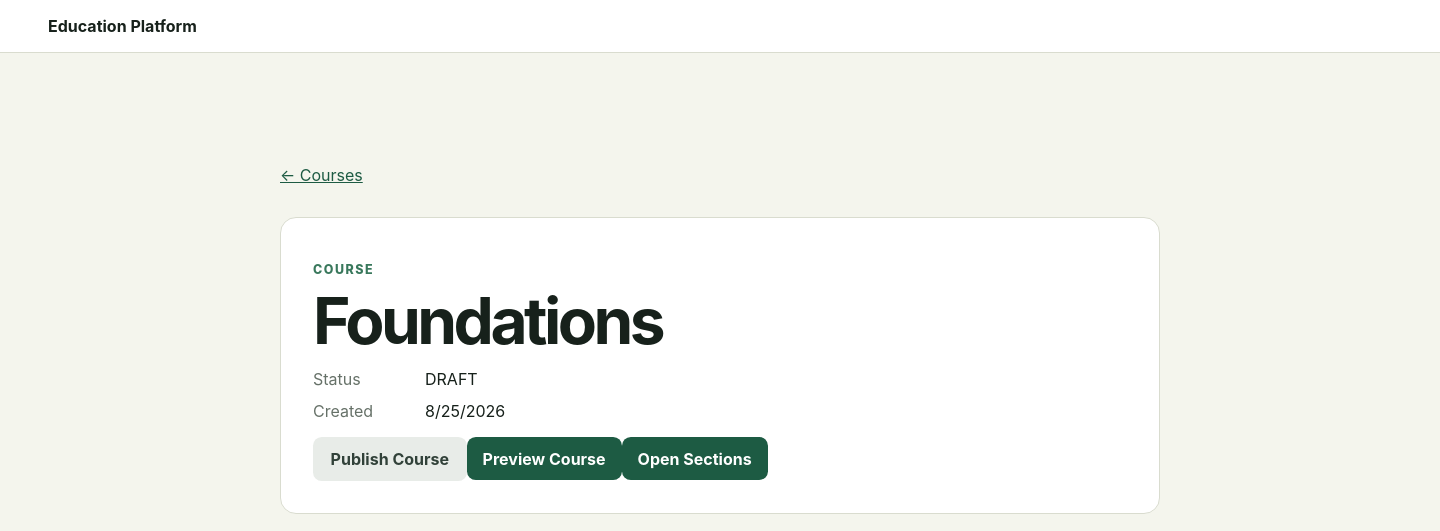
it: Course UI › invalidates the Course detail and Course list queries after a successful publish
The image size is (1440, 531).
Click the button "Publish Course".
click(390, 459)  # box [313,437,467,481]
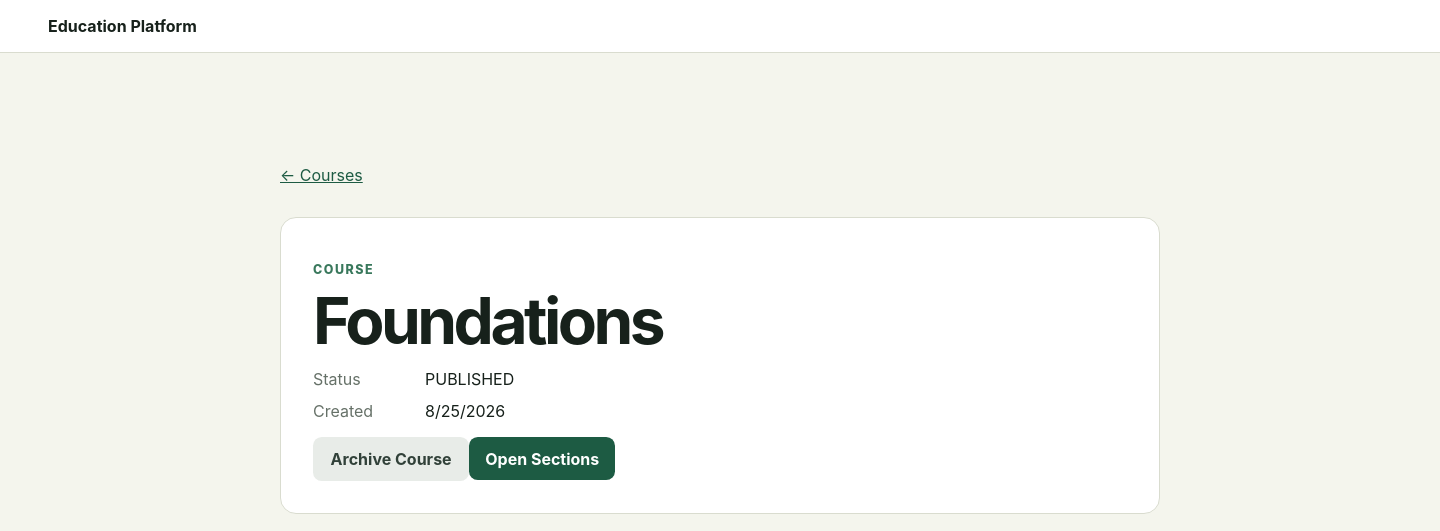
Result: the text "PUBLISHED" is shown at [425,369,514,389]
